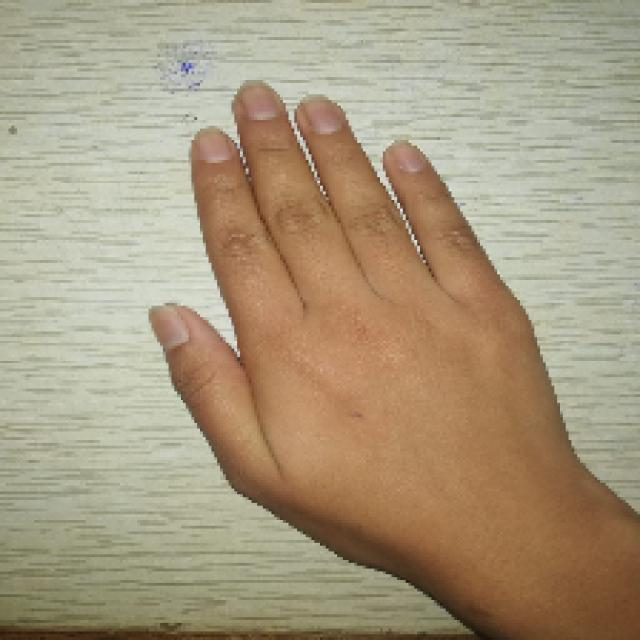Nail: (150, 306, 189, 351), (298, 96, 340, 135), (239, 81, 279, 120), (388, 142, 429, 173), (195, 129, 230, 162)
